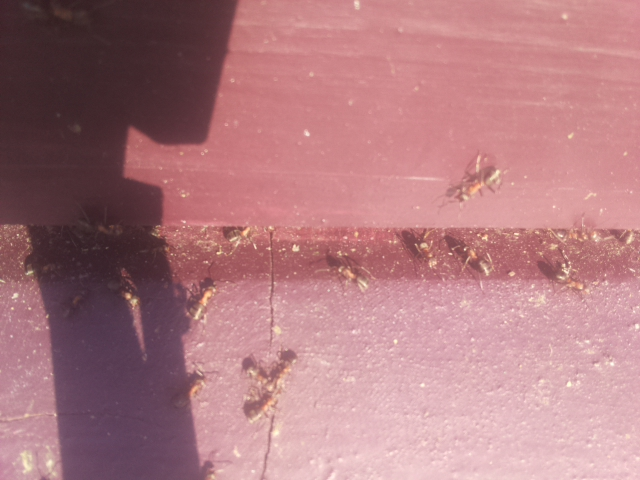ant: (440, 229, 500, 283), (452, 155, 506, 211), (317, 245, 374, 298), (542, 254, 594, 301), (167, 365, 214, 414), (400, 225, 444, 274), (72, 208, 130, 241), (264, 345, 302, 388), (105, 273, 146, 312), (188, 280, 219, 325), (242, 353, 270, 390)
